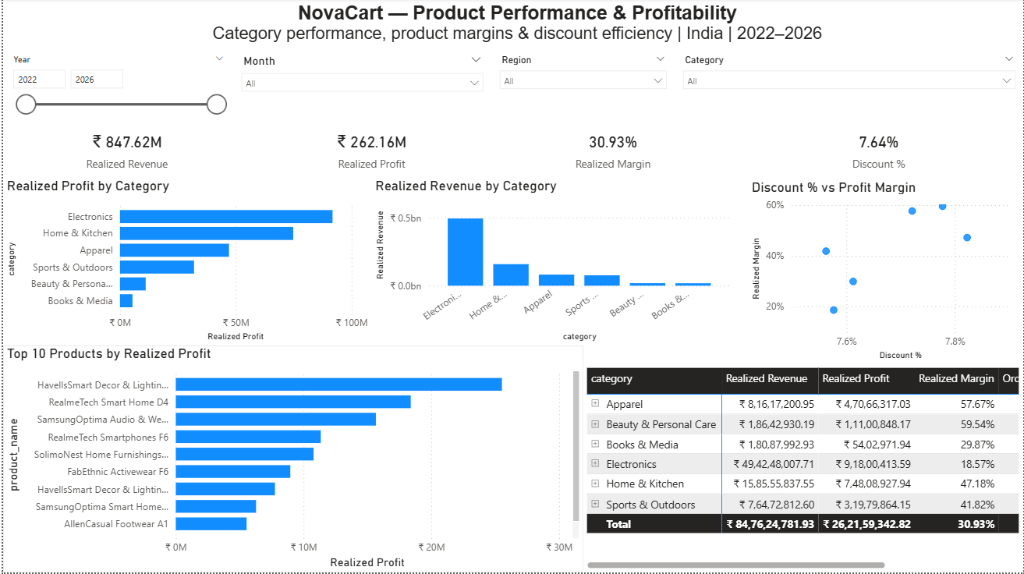

The page's visual inventory and layout, read from the dashboard file:
{"tool":"powerbi","page":{"name":"Product Analytics","canvas":[1280,720],"ordinal":3},"visuals":[{"type":"textbox","box":[9.8,0,1270.5,68.5],"z":0},{"type":"slicer","title":"YEAR","fields":{"Values":["dim_date.year"]},"box":[0,65,288.8,87.5],"z":1},{"type":"slicer","title":"MONTH","fields":{"Values":["dim_date.month_name"]},"box":[288.8,65,323.8,87.5],"z":2},{"type":"slicer","title":"REGION","fields":{"Values":["dim_location.region"]},"box":[612.5,65,230,87.5],"z":3},{"type":"slicer","title":"CATEGORY","fields":{"Values":["dim_product.category"]},"box":[842.5,65,437.5,87.5],"z":4},{"type":"card","fields":{"Values":["_Measures.Realized Revenue"]},"box":[0,152.5,311.2,72.5],"z":5},{"type":"card","fields":{"Values":["_Measures.Realized Profit"]},"box":[311.2,152.5,301.2,72.5],"z":6},{"type":"card","fields":{"Values":["_Measures.Realized Margin"]},"box":[612.5,152.5,305,72.5],"z":7},{"type":"card","fields":{"Values":["_Measures.Discount %"]},"box":[917.5,152.5,362.5,72.5],"z":8},{"type":"clusteredBarChart","title":"Realized Profit by Category","fields":{"Category":["dim_product.category"],"Y":["_Measures.Realized Profit"]},"box":[0,225,462.2,210.3],"z":9},{"type":"clusteredColumnChart","title":"Realized Revenue by Category","fields":{"Y":["_Measures.Realized Revenue"],"Category":["dim_product.category"]},"box":[462.2,225,454.9,210.3],"z":10},{"type":"clusteredBarChart","title":"Top 10 Products by Realized Profit","fields":{"Category":["dim_product.product_name"],"Y":["_Measures.Realized Profit"]},"box":[0,435.3,727.6,284.9],"z":11},{"type":"scatterChart","title":"Discount % vs Profit Margin","fields":{"Y":["_Measures.Realized Margin"],"X":["_Measures.Discount %"],"Category":["dim_product.category"]},"box":[934.5,226.4,345.8,231.9],"z":12},{"type":"pivotTable","fields":{"Rows":["dim_product.category","dim_product.product_name"],"Values":["_Measures.Realized Revenue","_Measures.Realized Profit","_Measures.Realized Margin","_Measures.Ordered Quantity","_Measures.Discount %"]},"box":[727.6,458.6,551.5,261.7],"z":13}]}

Visuals, with their boxes in screenshot pixels (x1, y1, x2, y2), scaled from the page's 1280x720 canvas onto the 1024x574 screenshot:
textbox: box=[8, 0, 1023, 55]
"YEAR" slicer: box=[0, 52, 231, 122]
"MONTH" slicer: box=[231, 52, 490, 122]
"REGION" slicer: box=[490, 52, 674, 122]
"CATEGORY" slicer: box=[674, 52, 1023, 122]
card - _Measures.Realized Revenue: box=[0, 122, 249, 179]
card - _Measures.Realized Profit: box=[249, 122, 490, 179]
card - _Measures.Realized Margin: box=[490, 122, 734, 179]
card - _Measures.Discount %: box=[734, 122, 1023, 179]
"Realized Profit by Category" clusteredBarChart: box=[0, 179, 370, 347]
"Realized Revenue by Category" clusteredColumnChart: box=[370, 179, 734, 347]
"Top 10 Products by Realized Profit" clusteredBarChart: box=[0, 347, 582, 573]
"Discount % vs Profit Margin" scatterChart: box=[748, 180, 1023, 365]
pivotTable - dim_product.category x dim_product.product_name: box=[582, 366, 1023, 573]
